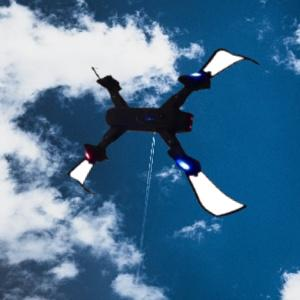drone: (79, 28, 268, 217)
